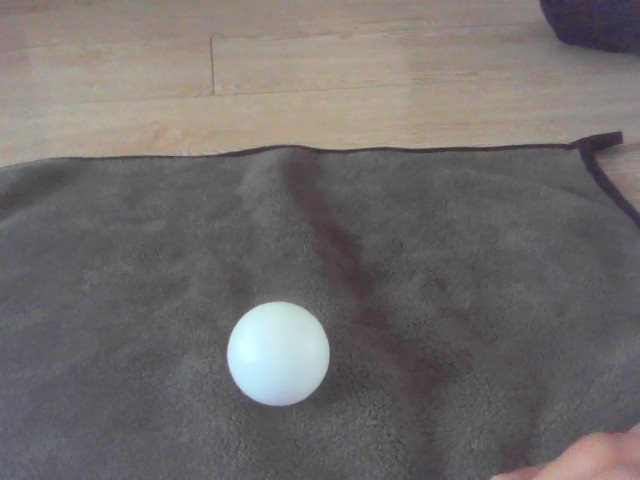ball: (229, 300, 329, 406)
